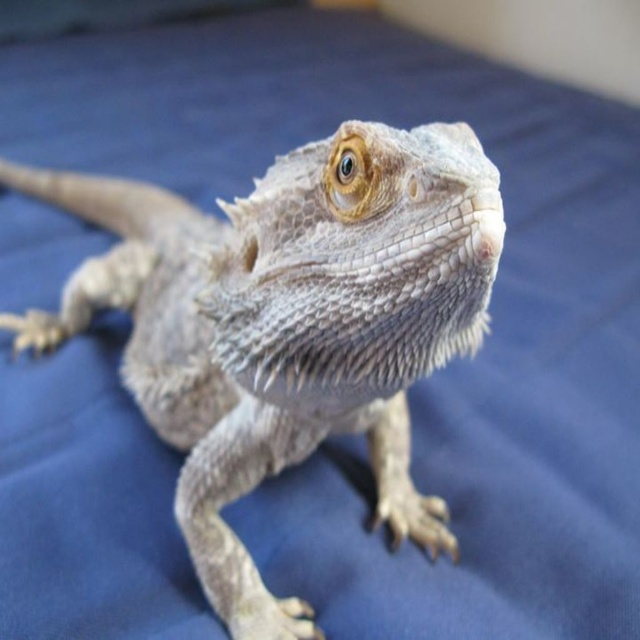Lizard: (0, 77, 484, 640)
